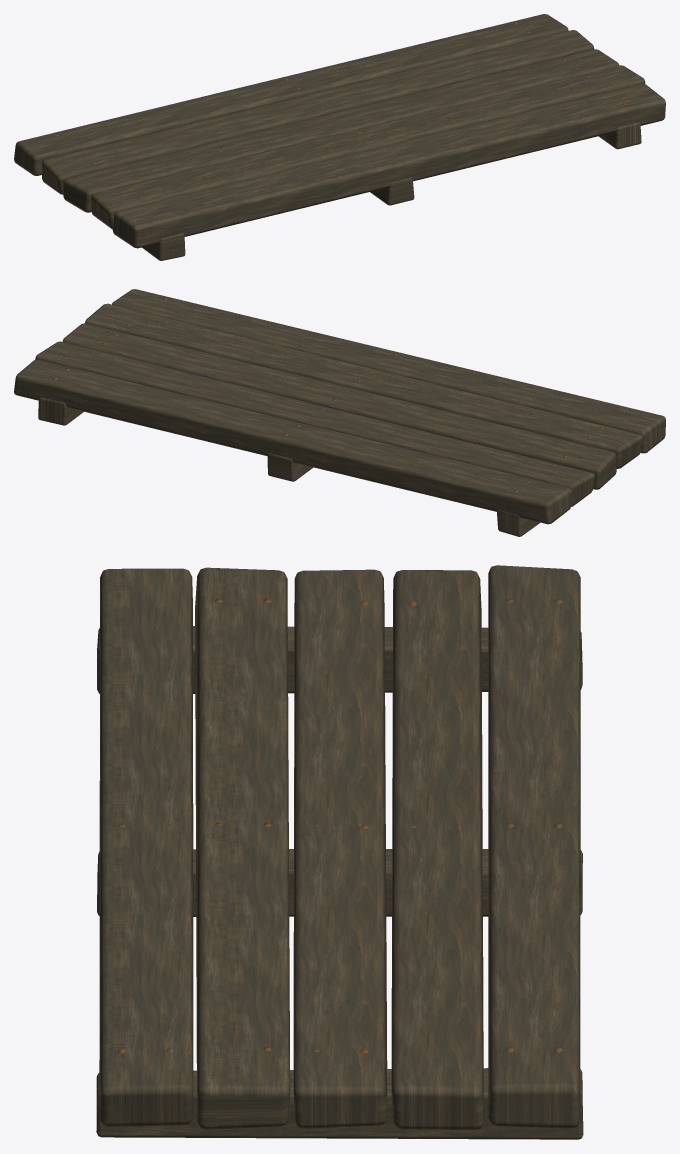
File: dock_deck.glb
The picture shows the model from 3 angles, top to bottom: view 1: azimuth 30°, elevation 25°; view 2: azimuth 150°, elevation 25°; view 3: azimuth 270°, elevation 25°; orthographic projection. The views are drawn at different scales.
Parts seen in each view (by area): view 1: Aged oak mesh; view 2: Aged oak mesh; view 3: Aged oak mesh.
Boxes of the visible parts, <box> form: Aged oak mesh: <box>14,14,665,260</box>; Aged oak mesh: <box>14,289,665,536</box>; Aged oak mesh: <box>96,565,583,1139</box>.
Size of the model in its own units: 5.27 by 0.3869 by 2.06.
Materials: 2 (2 with a texture image).
